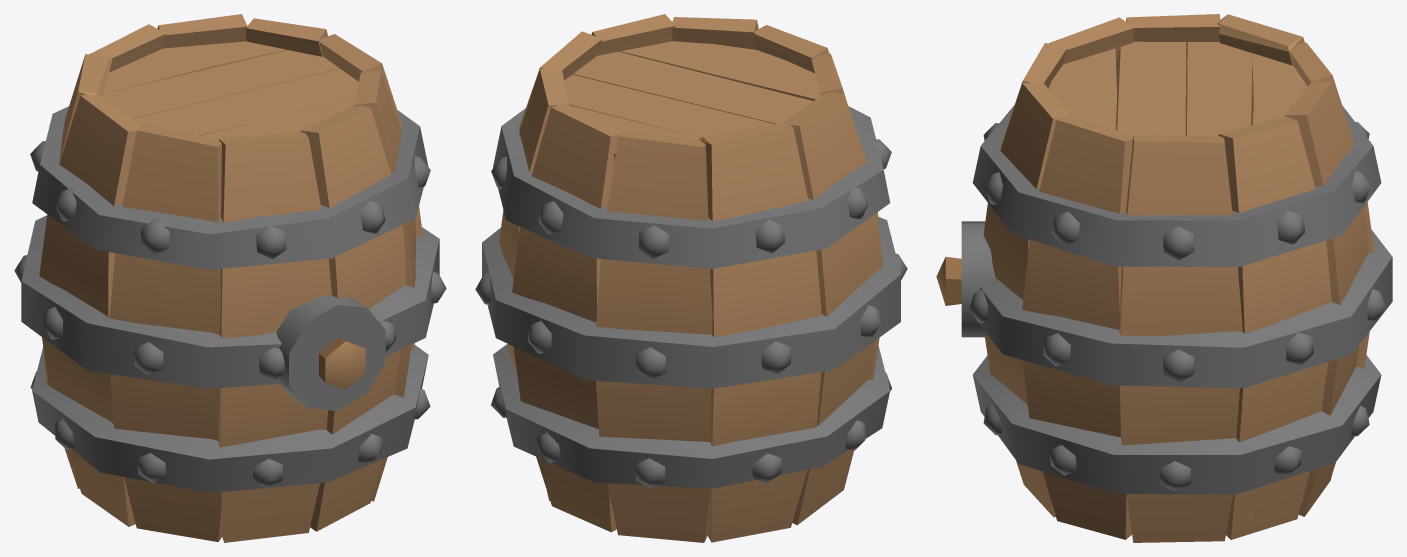
File: Barrel_F.fbx
3 renders of one model, left to right at view 1: azimuth 30°, elevation 25°; view 2: azimuth 150°, elevation 25°; view 3: azimuth 270°, elevation 25°, orthographic.
Visible parts, largest first — view 1: Barrel_F; view 2: Barrel_F; view 3: Barrel_F.
Boxes of the visible parts, x1=… form: Barrel_F: x1=14, y1=14, x2=446, y2=542; Barrel_F: x1=475, y1=14, x2=907, y2=542; Barrel_F: x1=936, y1=14, x2=1392, y2=542.
Bounding box in the file's own units: 84.28 × 85.55 × 87.78.
